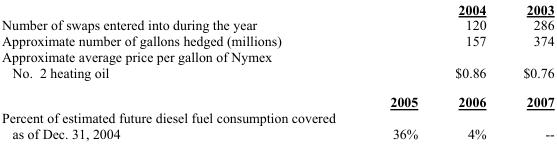table: (1, 1, 553, 141)
table column: (1, 1, 362, 141), (362, 1, 435, 141), (435, 1, 503, 141), (503, 1, 553, 141)
table column header: (1, 1, 553, 48)
table projected row header: (1, 48, 553, 64)
table row: (1, 1, 553, 48), (1, 109, 553, 141), (1, 64, 553, 87), (1, 87, 553, 109), (1, 48, 553, 64)
